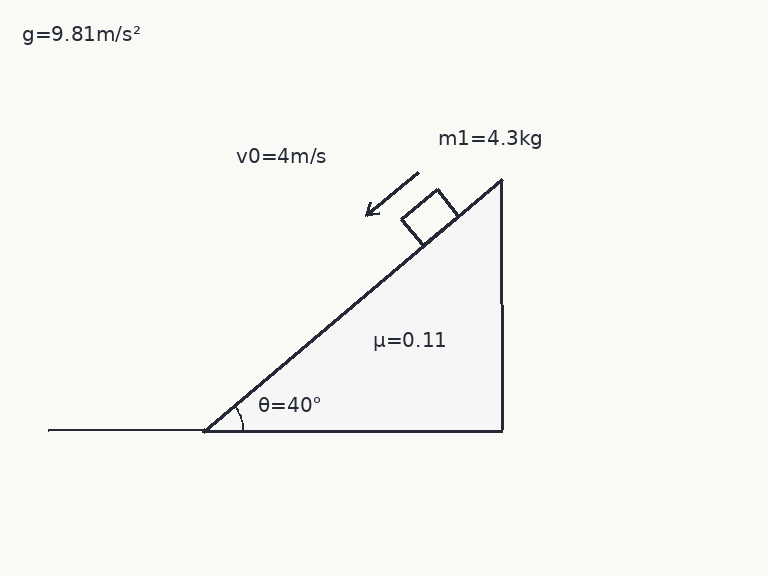block: (399, 187, 461, 247)
ramp: (201, 177, 504, 432)
